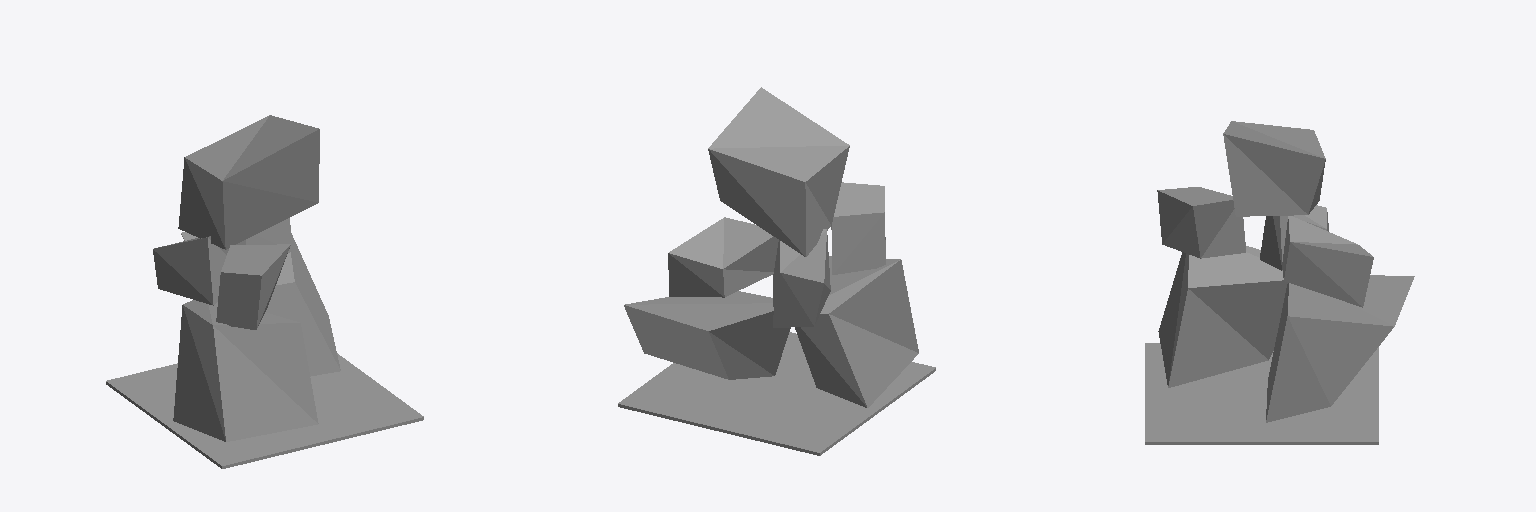
The model's file is pather_NO_6_TEX_2.obj.
3 renders of one model, left to right at view 1: azimuth 30°, elevation 25°; view 2: azimuth 150°, elevation 25°; view 3: azimuth 270°, elevation 25°, orthographic.
Parts seen in each view (by area): view 1: Cube.004_Cube, Cube.002, Cube.006_Cube.005, Cube_Cube.004, Cube.001, Cube.005_Cube.006, Cube.003; view 2: Cube.006_Cube.005, Cube.002, Cube.004_Cube, Cube.001, Cube.003, Cube_Cube.004, Cube.005_Cube.006; view 3: Cube.006_Cube.005, Cube.004_Cube, Cube.001, Cube.002, Cube.003, Cube_Cube.004, Cube.005_Cube.006.
Boxes of the visible parts, <box> form: Cube.004_Cube: <box>173,300,318,441</box>; Cube.002: <box>178,115,319,249</box>; Cube.006_Cube.005: <box>106,353,423,468</box>; Cube_Cube.004: <box>216,244,290,329</box>; Cube.001: <box>181,232,340,376</box>; Cube.005_Cube.006: <box>153,236,245,305</box>; Cube.003: <box>246,218,291,252</box>; Cube.006_Cube.005: <box>618,332,935,455</box>; Cube.002: <box>708,87,849,256</box>; Cube.004_Cube: <box>795,256,918,407</box>; Cube.001: <box>624,291,790,379</box>; Cube.003: <box>668,217,778,297</box>; Cube_Cube.004: <box>831,182,885,274</box>; Cube.005_Cube.006: <box>773,229,830,327</box>; Cube.006_Cube.005: <box>1145,343,1378,444</box>; Cube.004_Cube: <box>1158,246,1287,387</box>; Cube.001: <box>1266,275,1414,422</box>; Cube.002: <box>1223,121,1325,216</box>; Cube.003: <box>1282,216,1373,307</box>; Cube_Cube.004: <box>1157,187,1245,258</box>; Cube.005_Cube.006: <box>1260,205,1328,270</box>.
Size of the model in its own units: 0.6299 by 0.8303 by 0.7275.